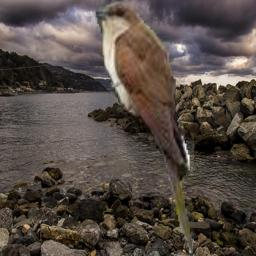Cuckoo: (93, 0, 194, 256)
